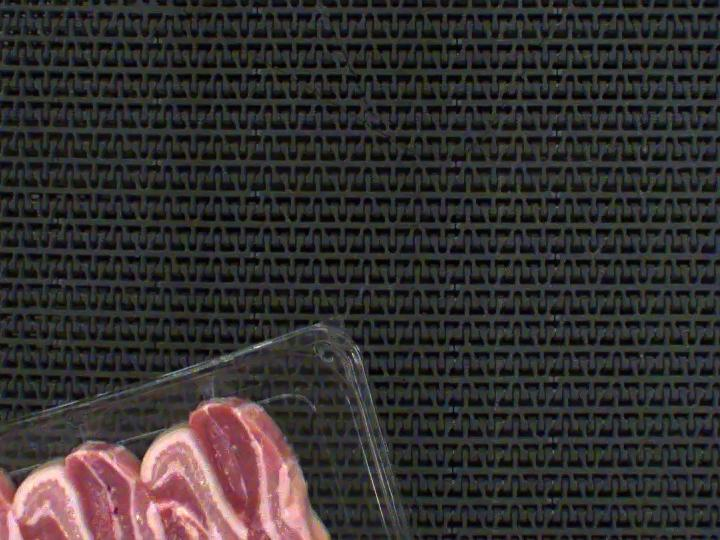packaging-error: (188, 370, 222, 402)
